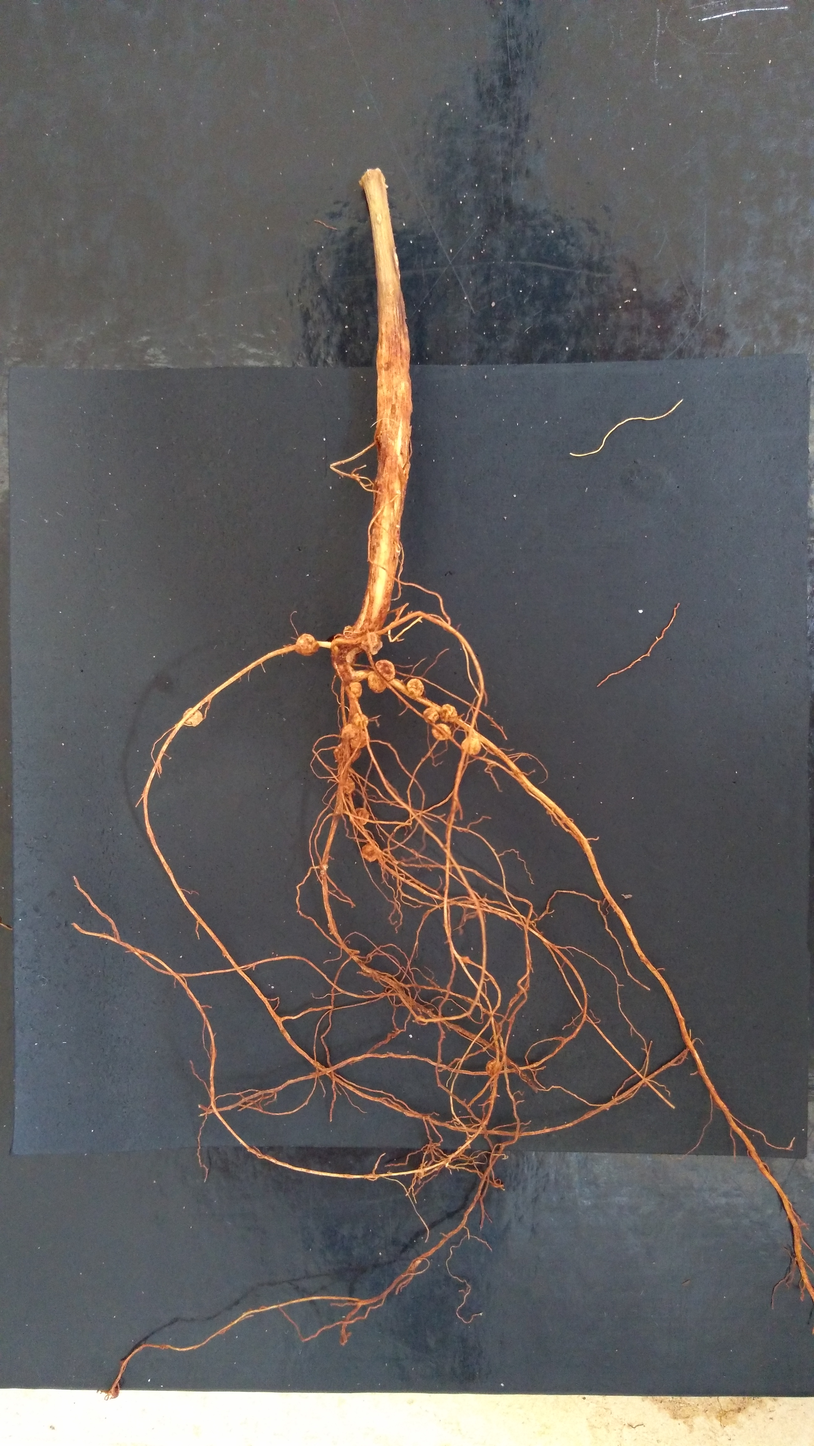nodule: (293, 633, 321, 656), (333, 742, 361, 764), (373, 658, 396, 683), (362, 631, 384, 655), (367, 672, 388, 695), (430, 722, 454, 742), (460, 735, 482, 756), (350, 728, 371, 750), (348, 805, 371, 825), (182, 707, 203, 728), (405, 677, 425, 699), (439, 703, 458, 725), (360, 842, 379, 863), (350, 711, 370, 730), (423, 705, 440, 725), (485, 1058, 502, 1078), (339, 723, 356, 742), (347, 681, 364, 699), (344, 776, 356, 796)
